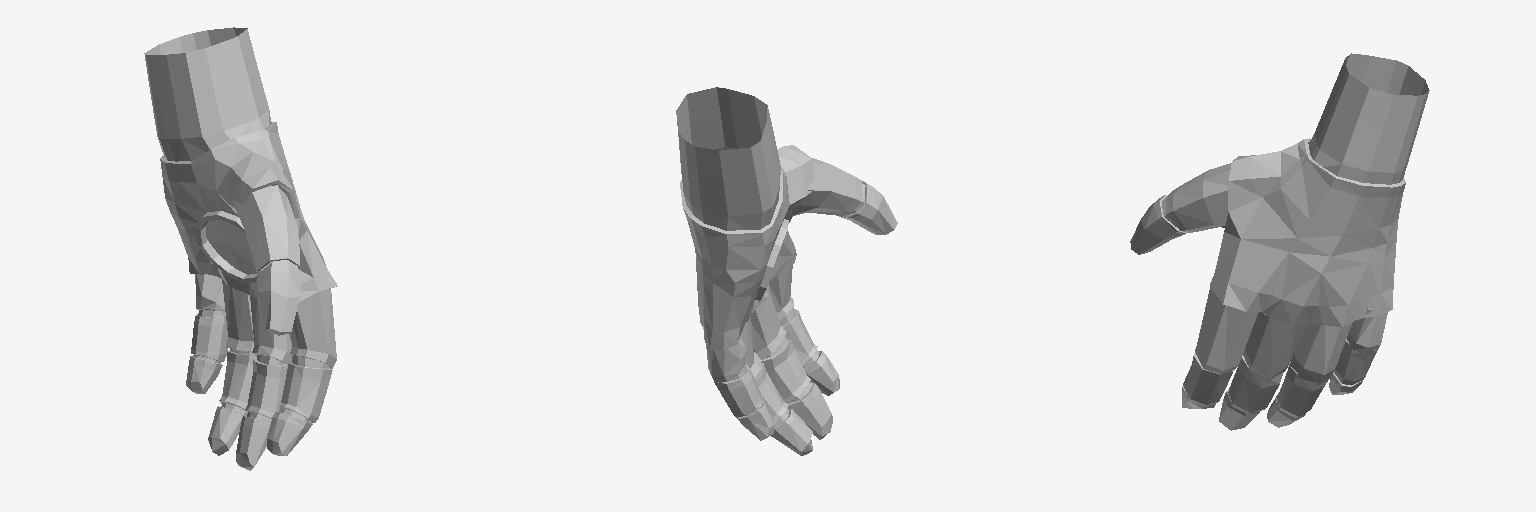
File: ilefthand2.obj
3 views of the same model, side by side, from view 1: azimuth 30°, elevation 25°; view 2: azimuth 150°, elevation 25°; view 3: azimuth 270°, elevation 25° (orthographic).
Visible parts, largest first — view 1: HD_Ironman:Plane04; view 2: HD_Ironman:Plane04; view 3: HD_Ironman:Plane04.
Part boxes in pixels (left/top/right/bottom): HD_Ironman:Plane04: left=144, top=27, right=337, bottom=470; HD_Ironman:Plane04: left=676, top=87, right=897, bottom=455; HD_Ironman:Plane04: left=1130, top=53, right=1429, bottom=430.
Size of the model in its own units: 0.8559 by 2.67 by 1.9.